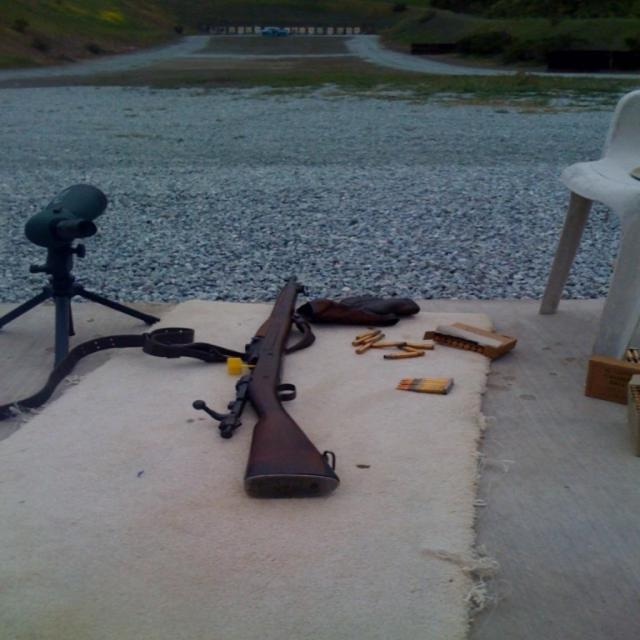weapon: (194, 274, 344, 497)
